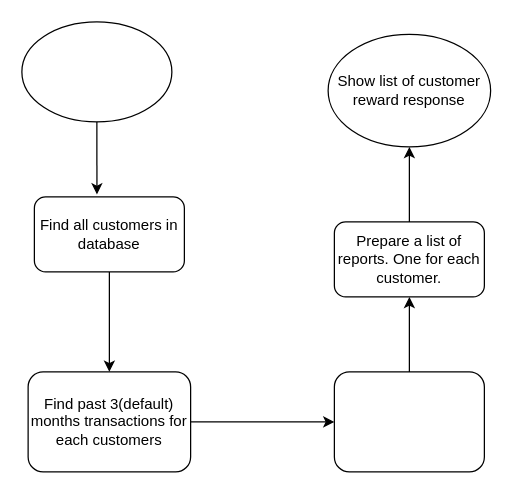
This 513x494 diagram has some shape labels left out. Each missing label, with the centre of its shape:
"Calculate points for each transactions for each customer." belongs at point 408,421.
"Get Rewards for all customers request" belongs at point 96,71.
